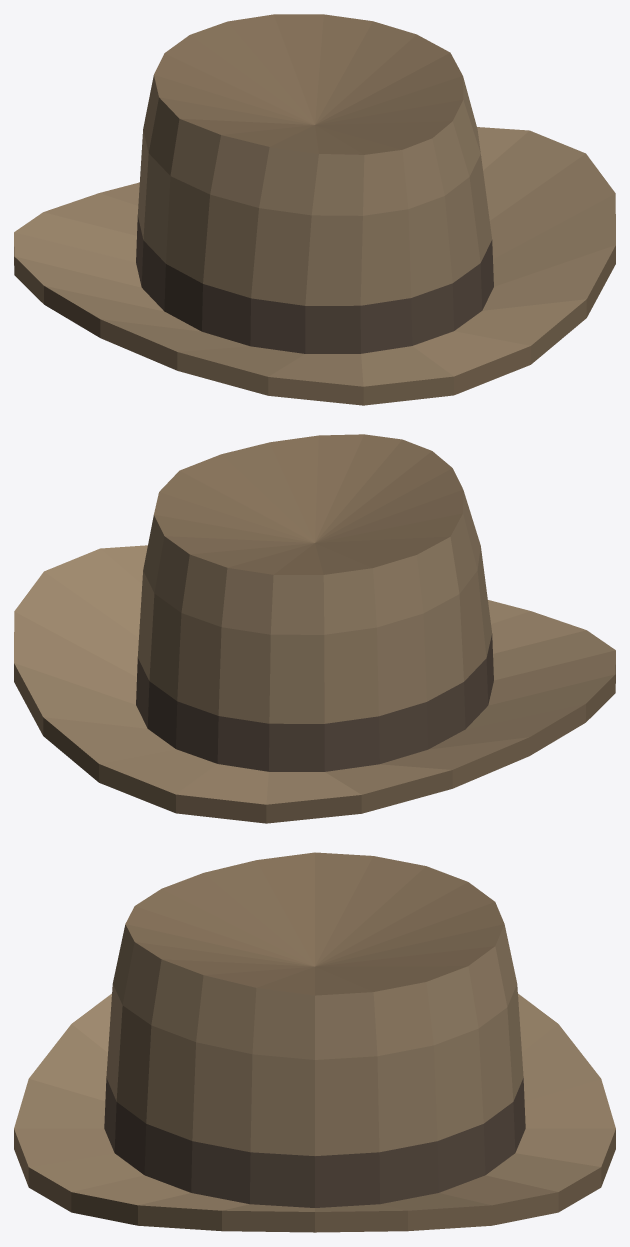
File: cowboy_hat.glb
The picture shows the model from 3 angles, top to bottom: view 1: azimuth 30°, elevation 25°; view 2: azimuth 150°, elevation 25°; view 3: azimuth 270°, elevation 25°; orthographic projection. The views are drawn at different scales.
Parts seen in each view (by area): view 1: cowboy_hat; view 2: cowboy_hat; view 3: cowboy_hat.
Part boxes in pixels (box(x1,y1,x2,y2)): cowboy_hat: box(14, 14, 615, 405); cowboy_hat: box(14, 434, 615, 823); cowboy_hat: box(14, 852, 615, 1232).
Size of the model in its own units: 0.36 by 0.132 by 0.32.
